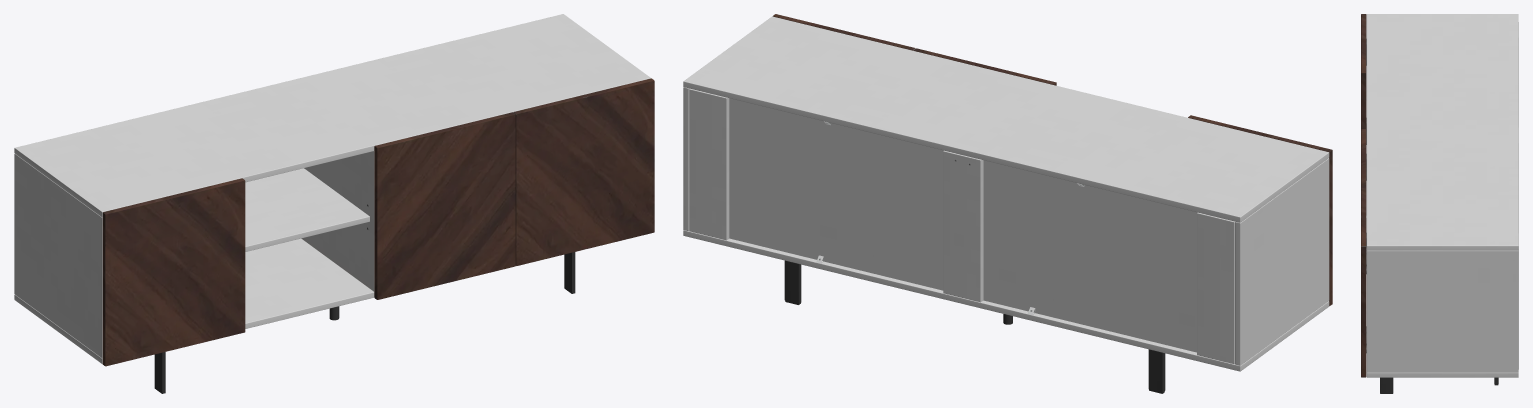
The model's file is abo-B07QF9Y234.glb.
The picture shows the model from 3 angles, left to right: view 1: azimuth 30°, elevation 25°; view 2: azimuth 150°, elevation 25°; view 3: azimuth 270°, elevation 25°; orthographic projection. The views are drawn at different scales.
Bounding box in the file's own units: 1.5 × 0.533 × 0.431.
1 material, 1 textured.
